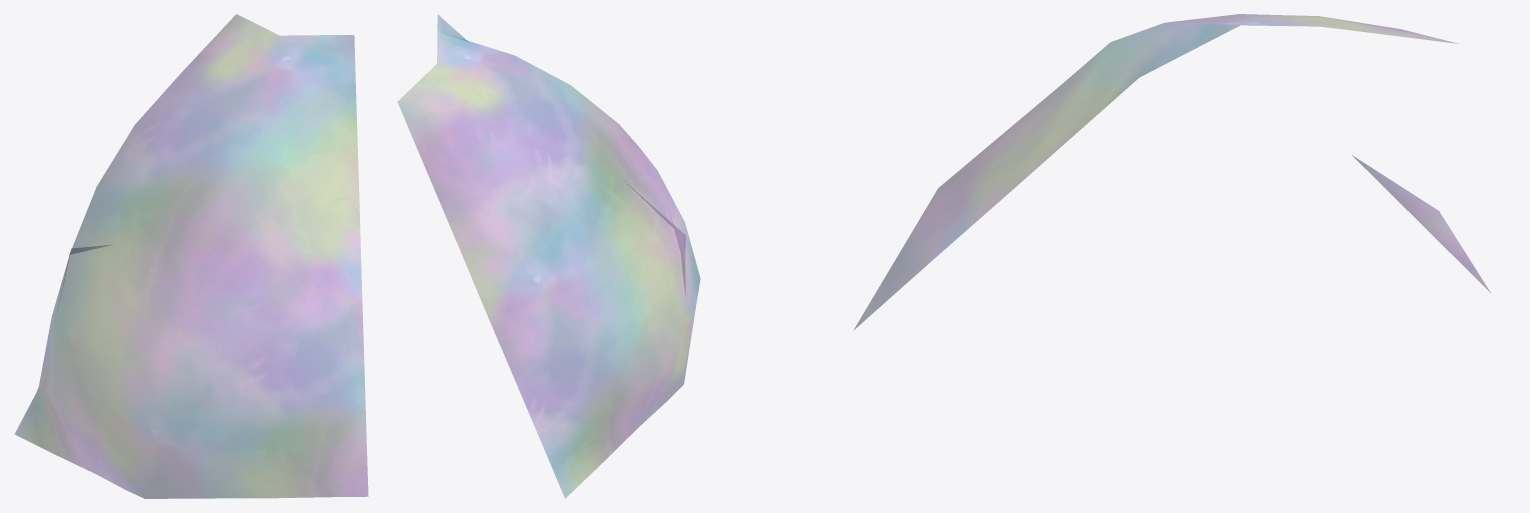
The model's file is bubble_techno2.glb.
3 views of the same model, side by side, from view 1: azimuth 30°, elevation 25°; view 2: azimuth 150°, elevation 25°; view 3: azimuth 270°, elevation 25° (orthographic). The views are drawn at different scales.
Visible parts, largest first — view 1: bubble.png__; view 2: bubble.png__; view 3: bubble.png__.
Boxes of the visible parts, left/top/right/bottom form: bubble.png__: left=15, top=14, right=368, bottom=498; bubble.png__: left=397, top=15, right=700, bottom=498; bubble.png__: left=853, top=14, right=1490, bottom=330.
Bounding box in the file's own units: 3.28 × 4.77 × 5.13.
1 material, 1 textured.
